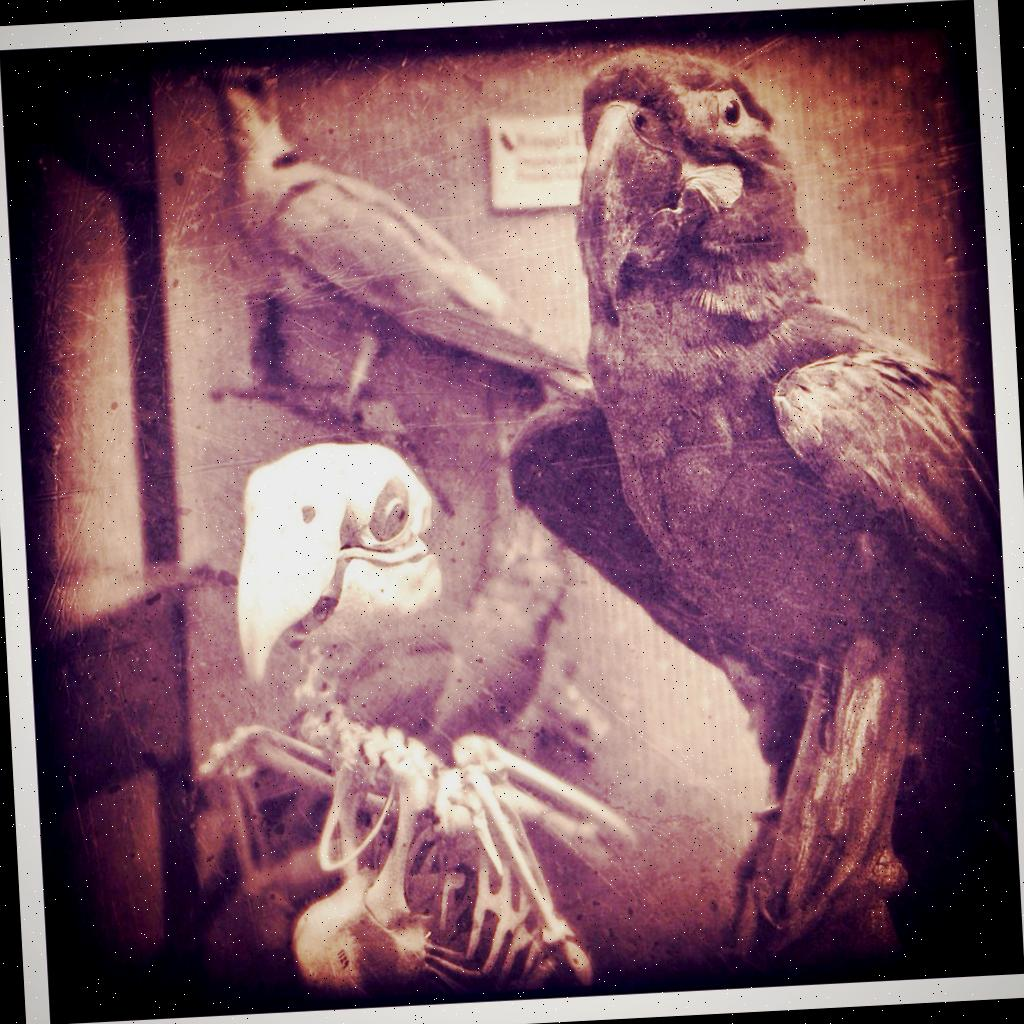Owl: (482, 32, 1000, 966), (230, 450, 463, 743)
